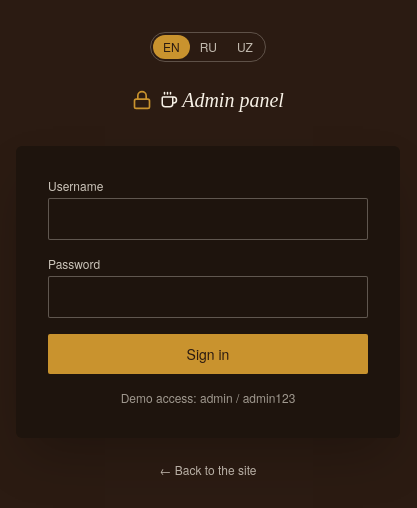
Test: Admin panel › redirects to login and rejects wrong credentials
Check: the heading "Admin panel" is shown, box [160,86,284,114]
Type "admin" into the field labelled "Username" at [208, 219], box [48,198,368,240]
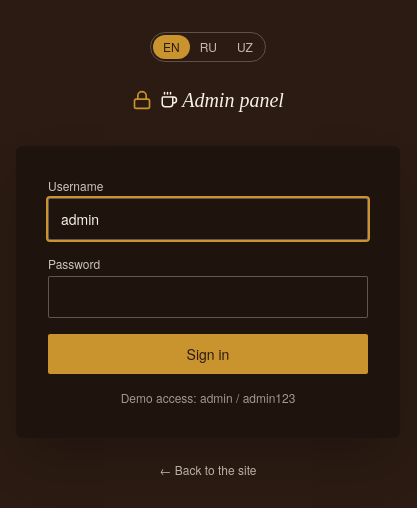
Type "wrong" into the password field labelled "Password" at [208, 297], box [48,276,368,318]
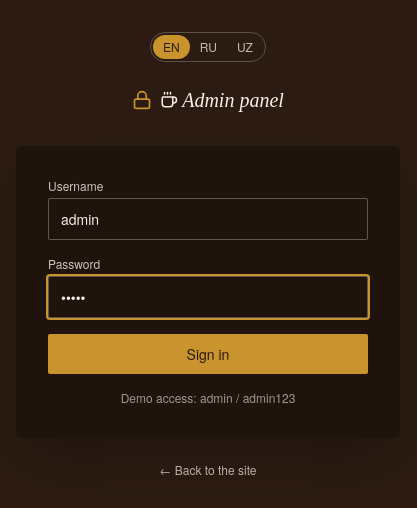
Click the button "Sign in" at [208, 354], box [48,334,368,374]
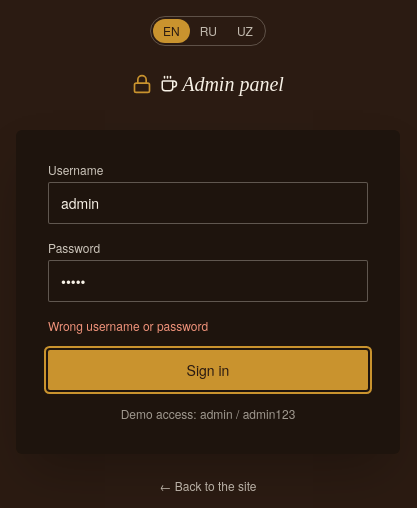
Check: the message reads "Wrong username or password", box [48,317,208,334]
